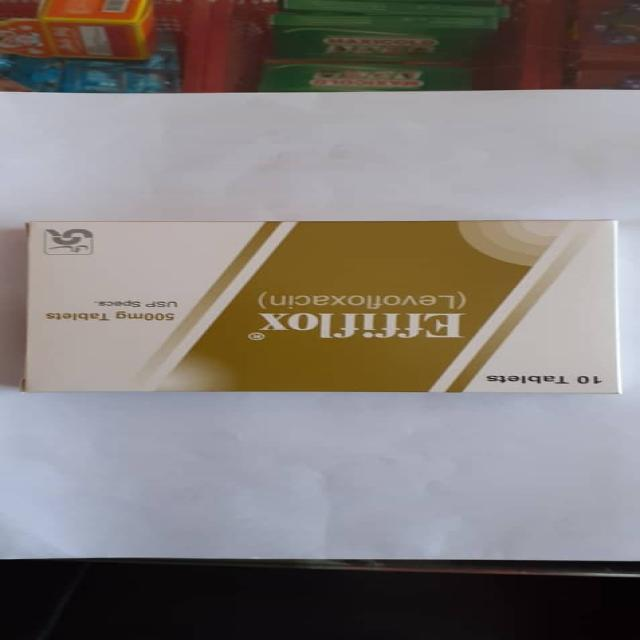drug-name: (252, 311, 465, 340)
